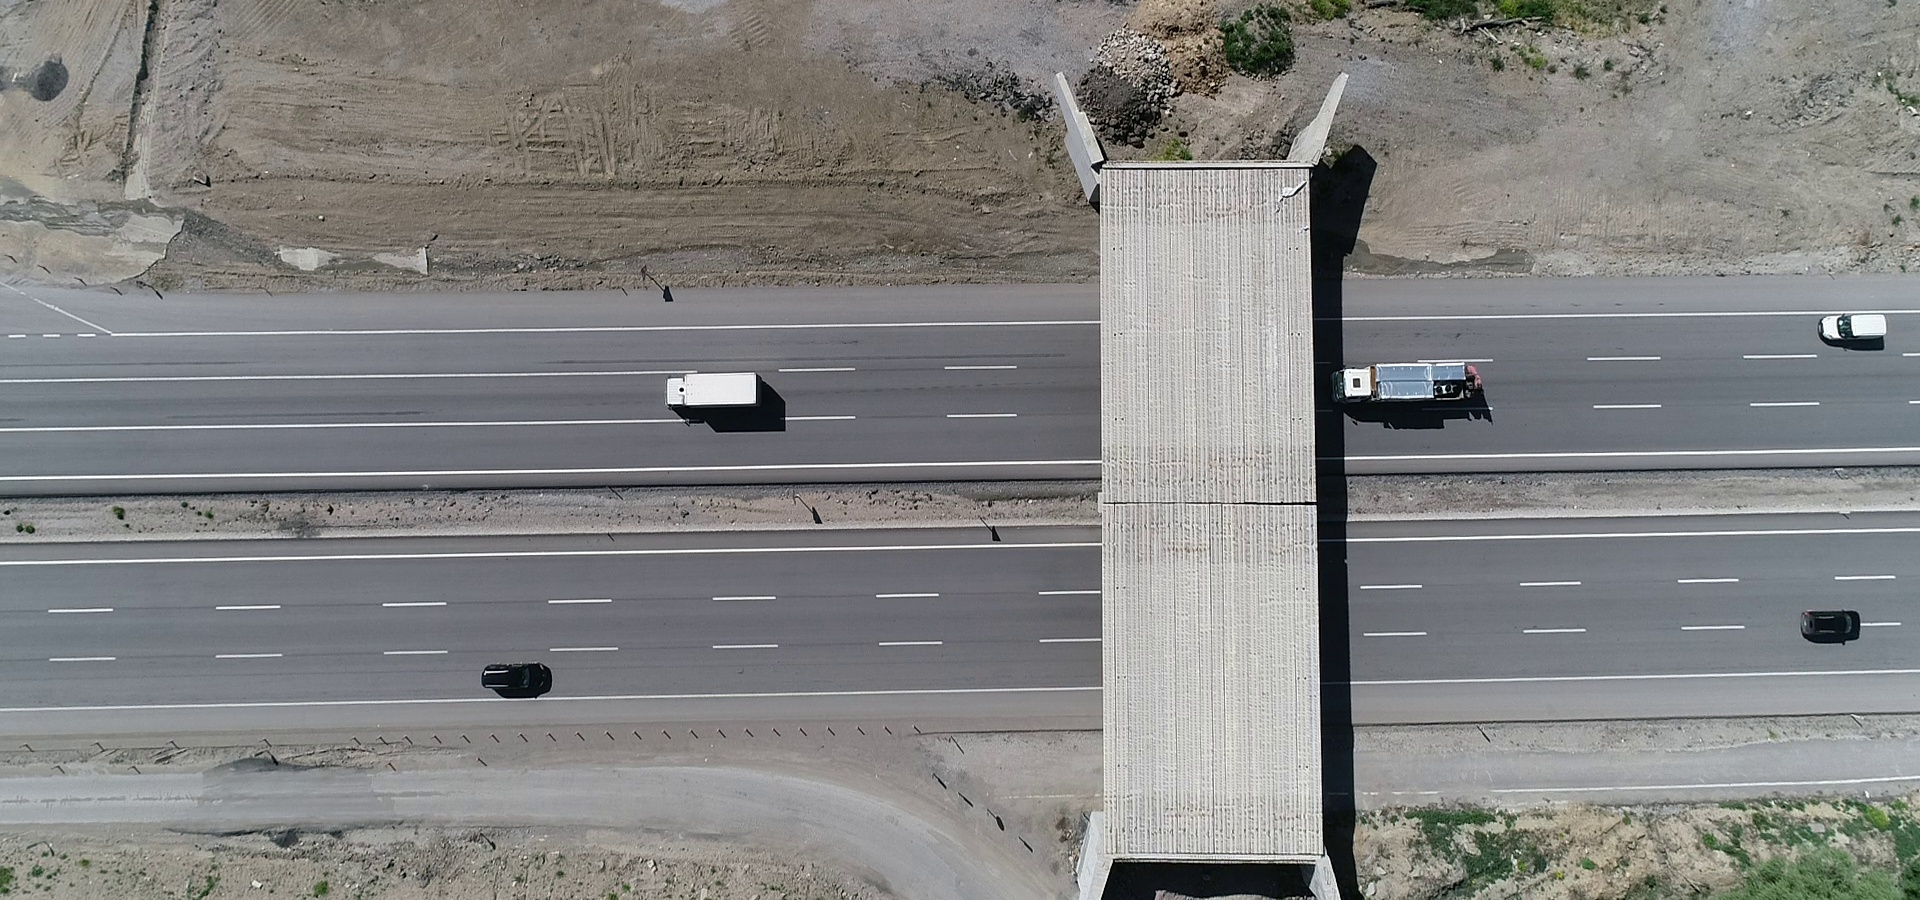araba: (1802, 301, 1896, 351), (476, 656, 560, 699), (1796, 595, 1867, 644)
kamyon: (1326, 345, 1502, 415), (655, 367, 778, 421)
